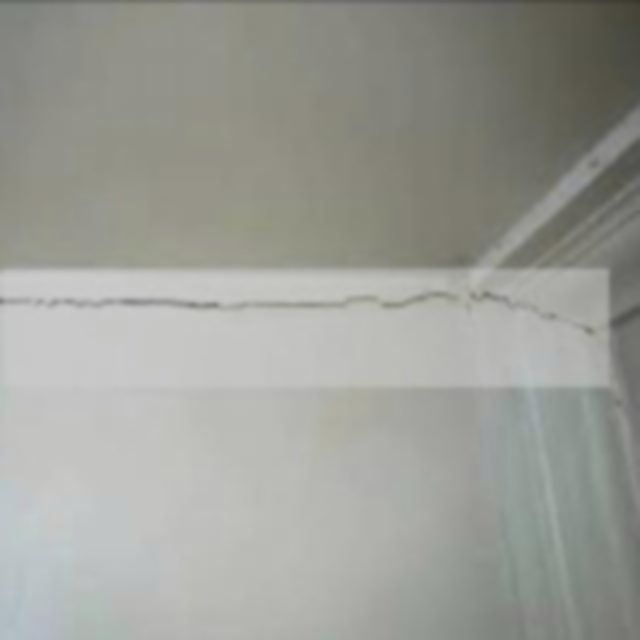SurfaceCrack: (0, 256, 636, 390)
